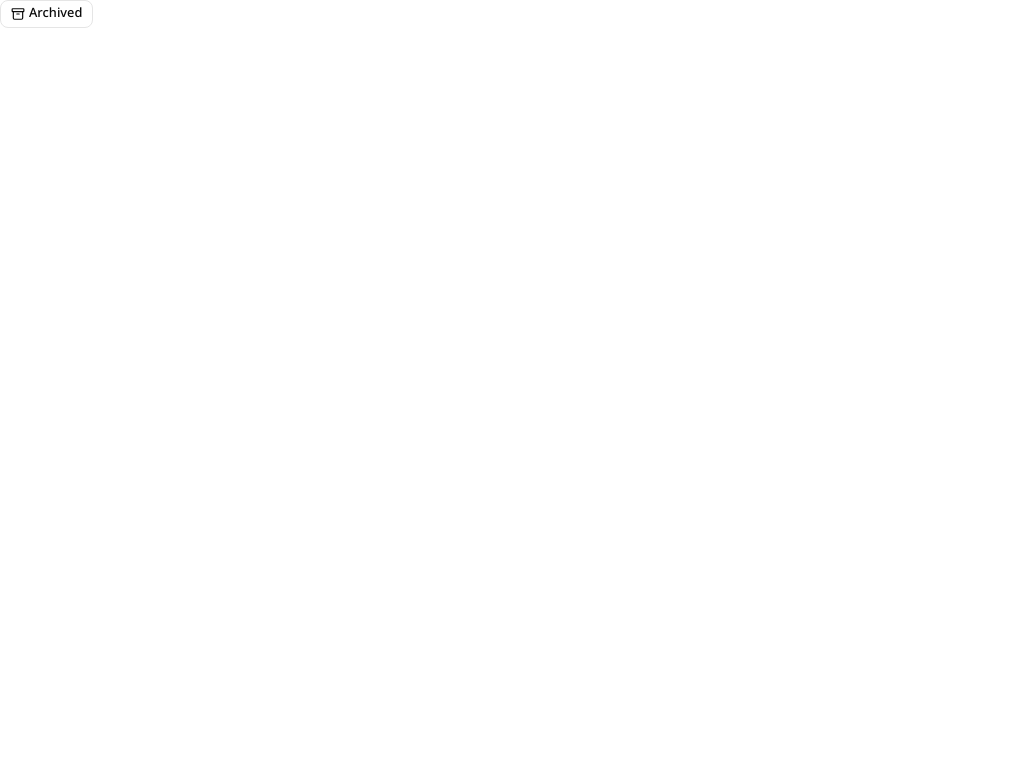
Test case: ArchivedSheet › a PM can restore lists
The width and height of the screenshot is (1024, 768).
Step 1. Click the button "Archived" → [47, 14], box top-left (0, 0), bottom-right (93, 28)
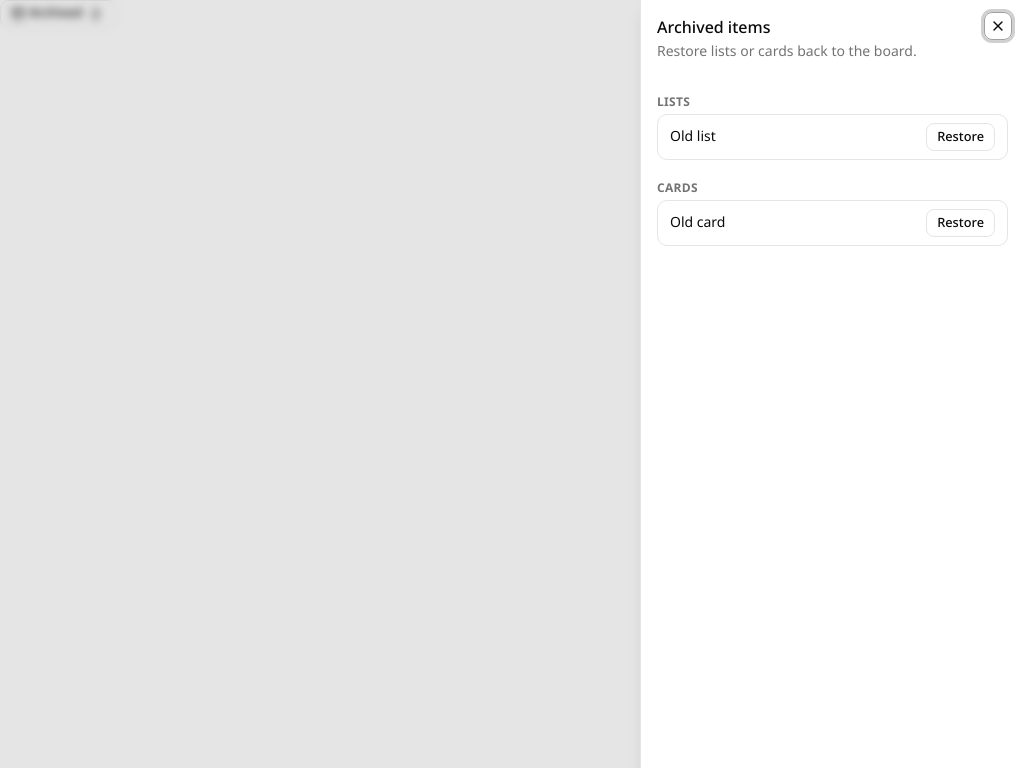
Check: the text "Old card" is shown, box top-left (670, 212), bottom-right (726, 233)
Check: the button with aria-label "Restore Old list" is shown, box top-left (926, 123), bottom-right (995, 151)
